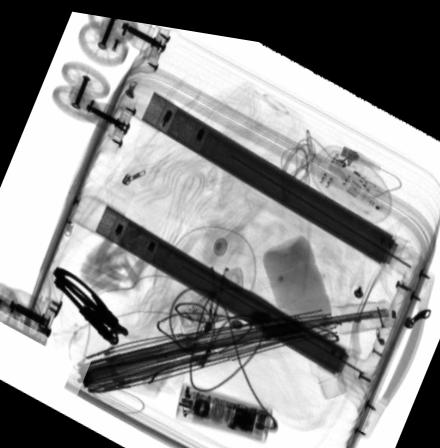HandCuffs: (50, 260, 131, 344)
